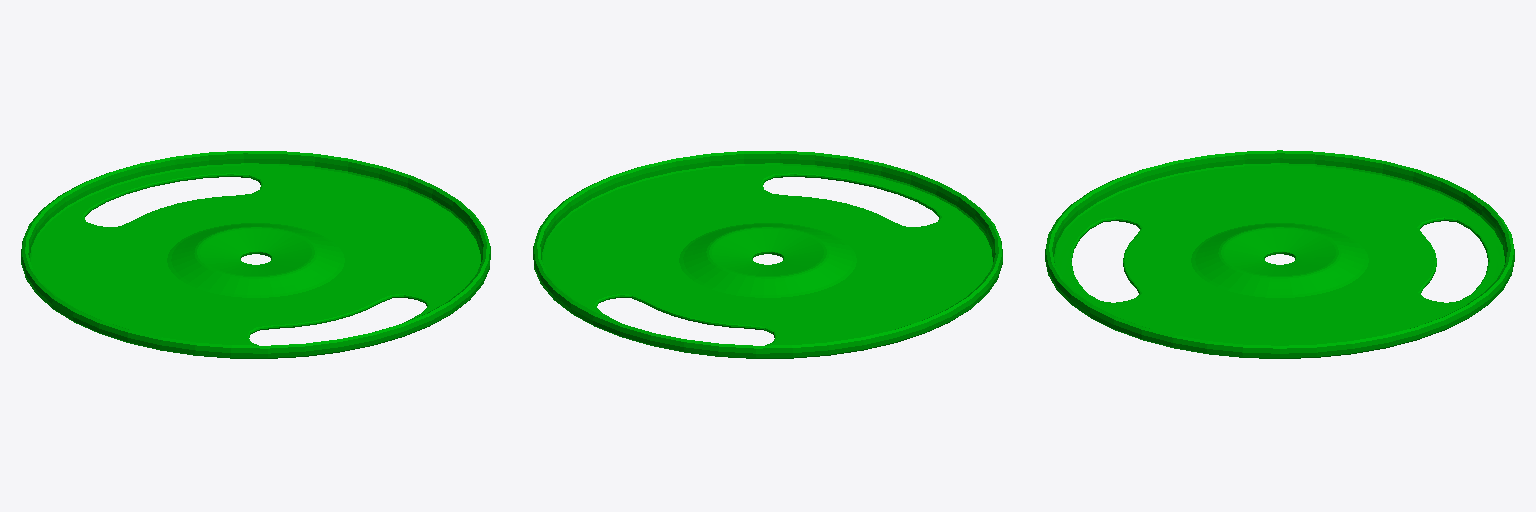
The picture shows the model from 3 angles: view 1: azimuth 30°, elevation 25°; view 2: azimuth 150°, elevation 25°; view 3: azimuth 270°, elevation 25°; orthographic projection.
Visible parts, largest first — view 1: bovie_base; view 2: bovie_base; view 3: bovie_base.
Boxes of the visible parts, box(x1,y1,x2,y2) form: bovie_base: box(21, 151, 490, 358); bovie_base: box(533, 151, 1002, 358); bovie_base: box(1045, 150, 1514, 358).
Size of the model in its own units: 2.43 by 0.0898 by 2.43.